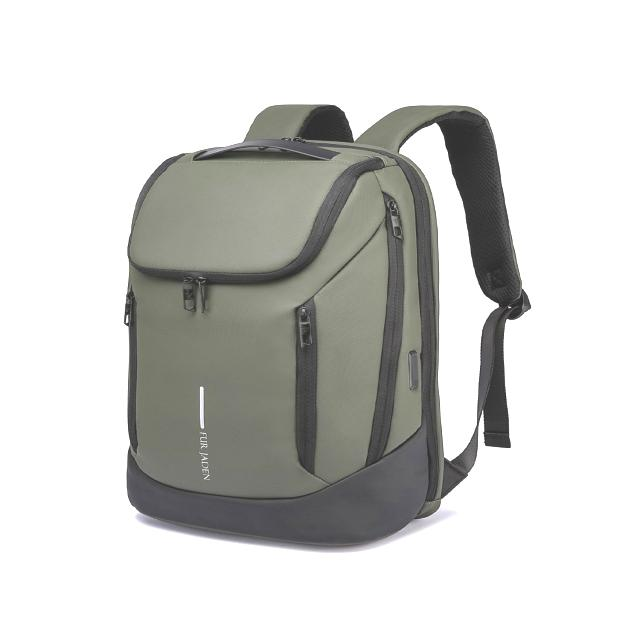backpack: (124, 104, 532, 548)
